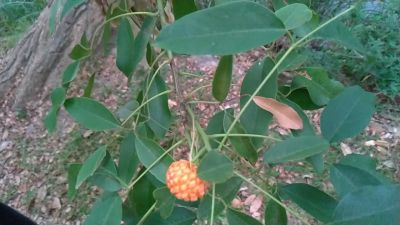eggs: (163, 155, 208, 200)
